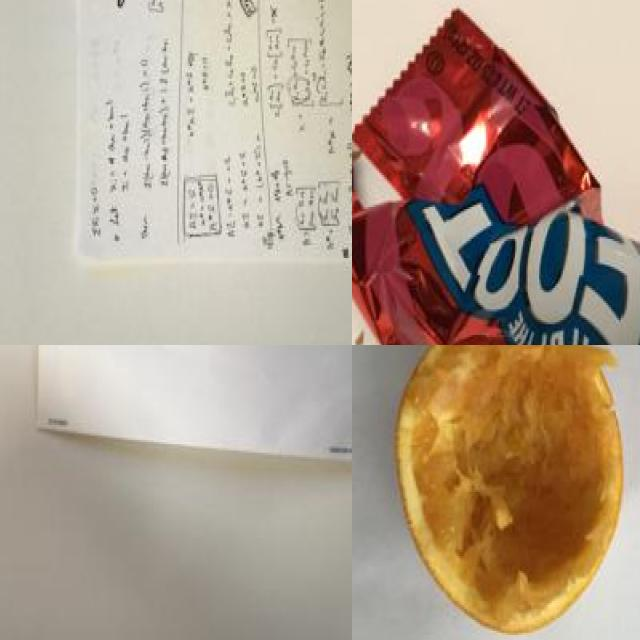compost: (384, 345, 640, 640)
paper: (70, 0, 352, 279), (35, 345, 352, 471)
trash: (352, 7, 640, 345)
